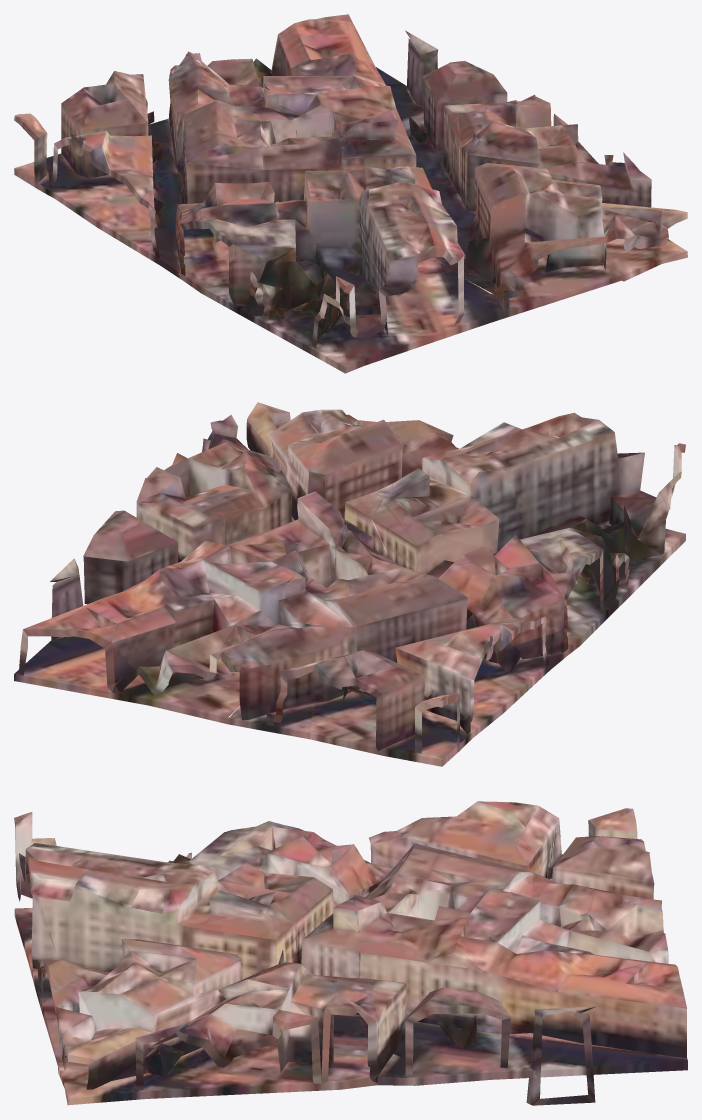
3 views of the same model, one above another, from view 1: azimuth 30°, elevation 25°; view 2: azimuth 150°, elevation 25°; view 3: azimuth 270°, elevation 25° (orthographic). The views are drawn at different scales.
Visible parts, largest first — view 1: Mesh_0; view 2: Mesh_0; view 3: Mesh_0.
Boxes of the visible parts, bbox=[...] form: Mesh_0: bbox=[14, 14, 687, 373]; Mesh_0: bbox=[14, 402, 685, 766]; Mesh_0: bbox=[14, 801, 687, 1105].
Size of the model in its own units: 133 by 34.7 by 165.
1 material, 1 textured.
